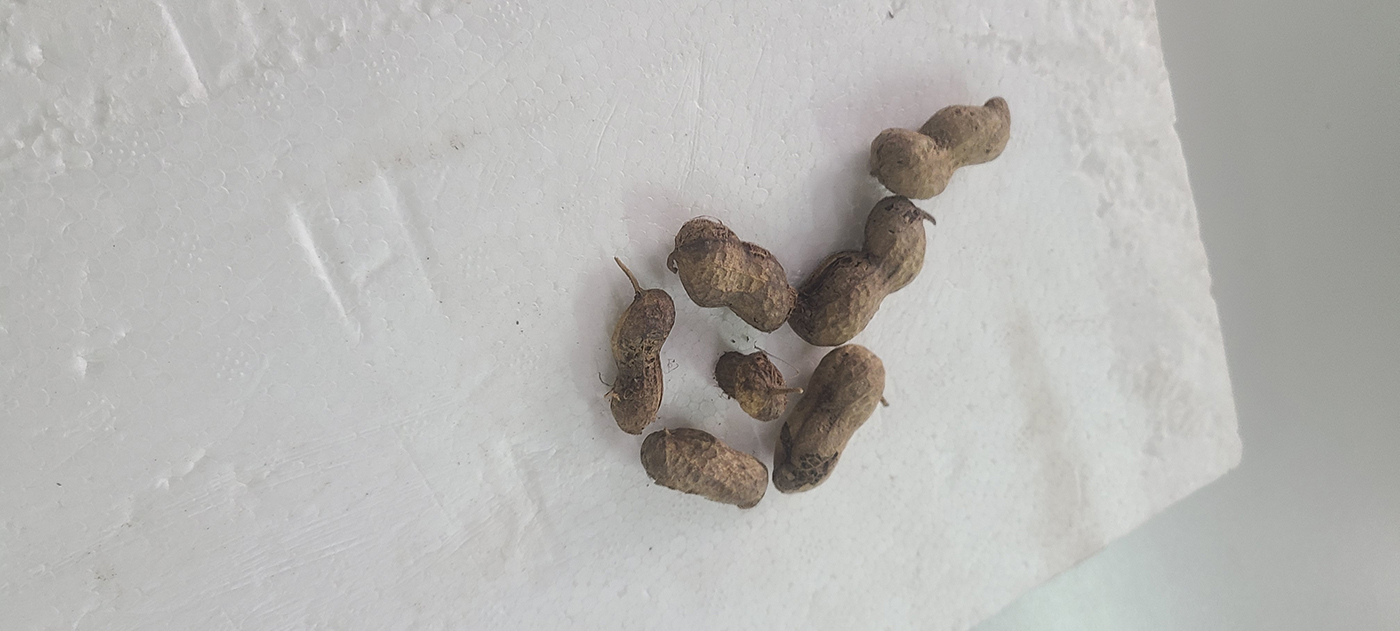l: (790, 195, 926, 347), (773, 344, 887, 495), (869, 96, 1012, 199), (676, 218, 795, 333), (640, 427, 770, 510), (610, 290, 676, 435), (715, 352, 787, 421)
